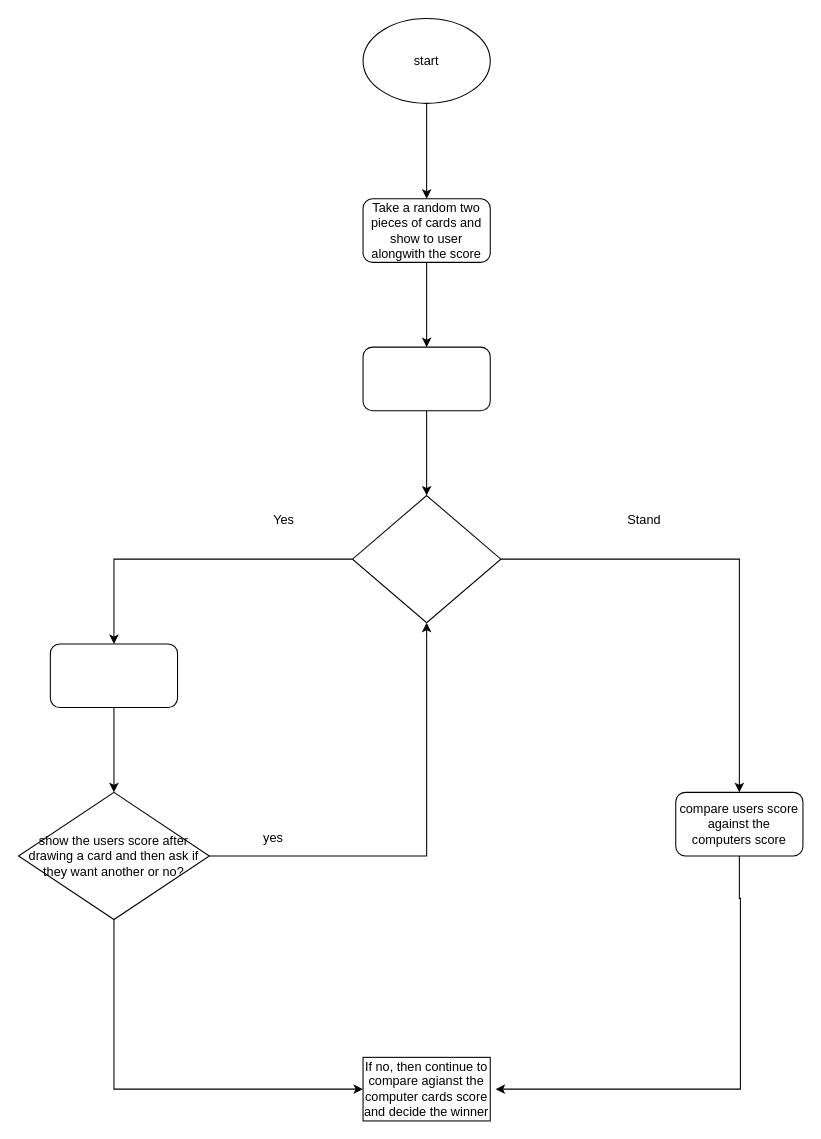
This 821x1139 diagram has some shape labels left out. The shapes that lost their labels are listed below. From the top down, each one's box as (x1, y1, x2, y2) in pixels, then its label:
(362, 346, 490, 411): take two random cards for computer but show only one to the user
(351, 494, 501, 623): ask if the user wants another card or will stand
(49, 643, 178, 708): pick another random card and add it to the users score
